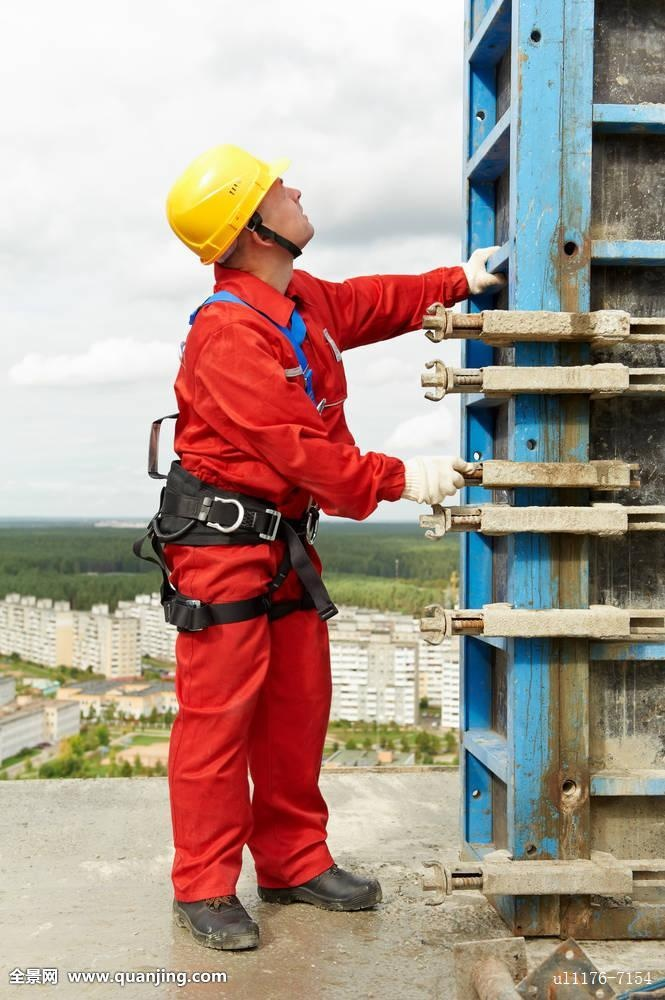yellow: (157, 148, 311, 287)
